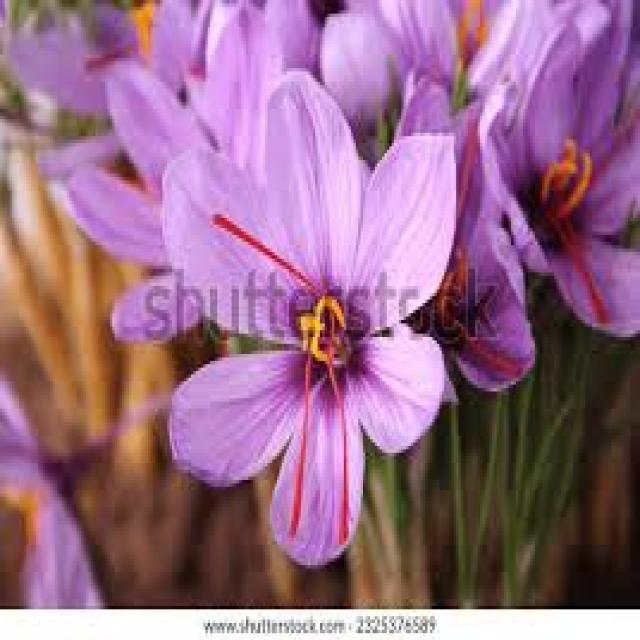Flower: (142, 103, 440, 520), (486, 12, 640, 338)
stigma: (536, 129, 612, 335), (207, 198, 338, 299), (330, 297, 367, 552), (293, 313, 317, 543)
